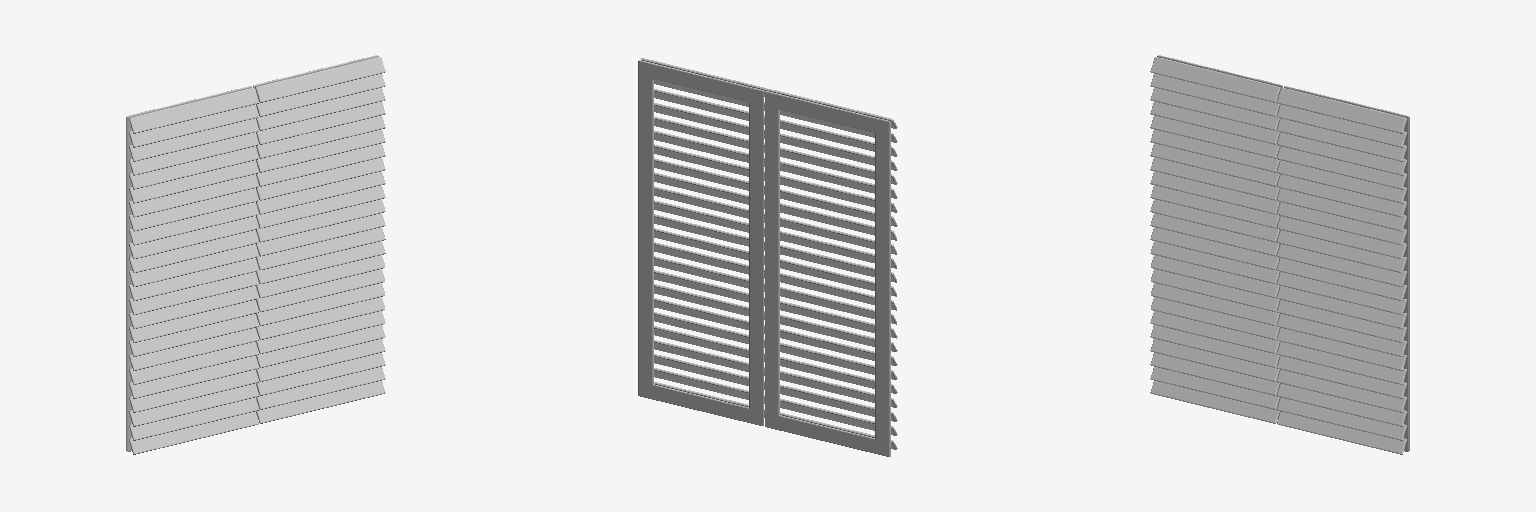
File: Finestra_chiusa.obj
3 views of the same model, side by side, from view 1: azimuth 30°, elevation 25°; view 2: azimuth 150°, elevation 25°; view 3: azimuth 330°, elevation 25° (orthographic).
Visible parts, largest first — view 1: Tapparelle; view 2: Tapparelle; view 3: Tapparelle.
Part boxes in pixels (x1,y1,x2,y2): Tapparelle: (126,55,385,454); Tapparelle: (638,58,897,456); Tapparelle: (1150,55,1409,454).
Bounding box in the file's own units: 1.04 × 1.33 × 0.0574.